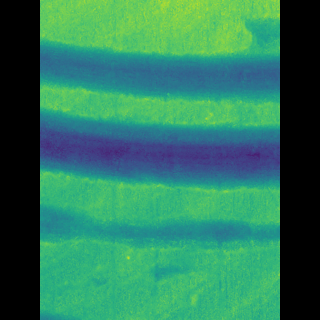Loch: (68, 104, 250, 190), (69, 35, 250, 103), (69, 201, 250, 260)
